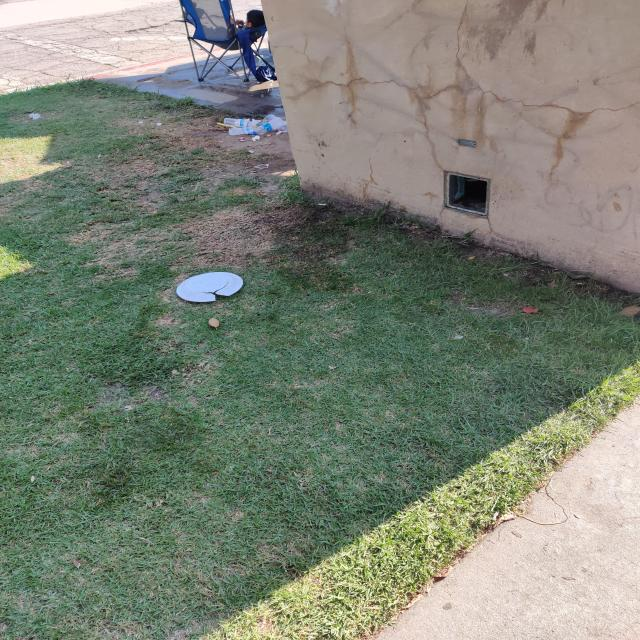litter: (176, 272, 243, 302), (253, 117, 284, 135), (263, 114, 288, 131), (224, 118, 255, 127), (228, 127, 256, 135), (217, 123, 237, 128), (29, 113, 40, 119), (275, 130, 288, 135), (251, 119, 261, 125), (252, 136, 260, 141), (317, 203, 326, 205), (253, 131, 257, 135), (157, 123, 162, 126), (249, 150, 254, 153), (138, 121, 143, 123)
